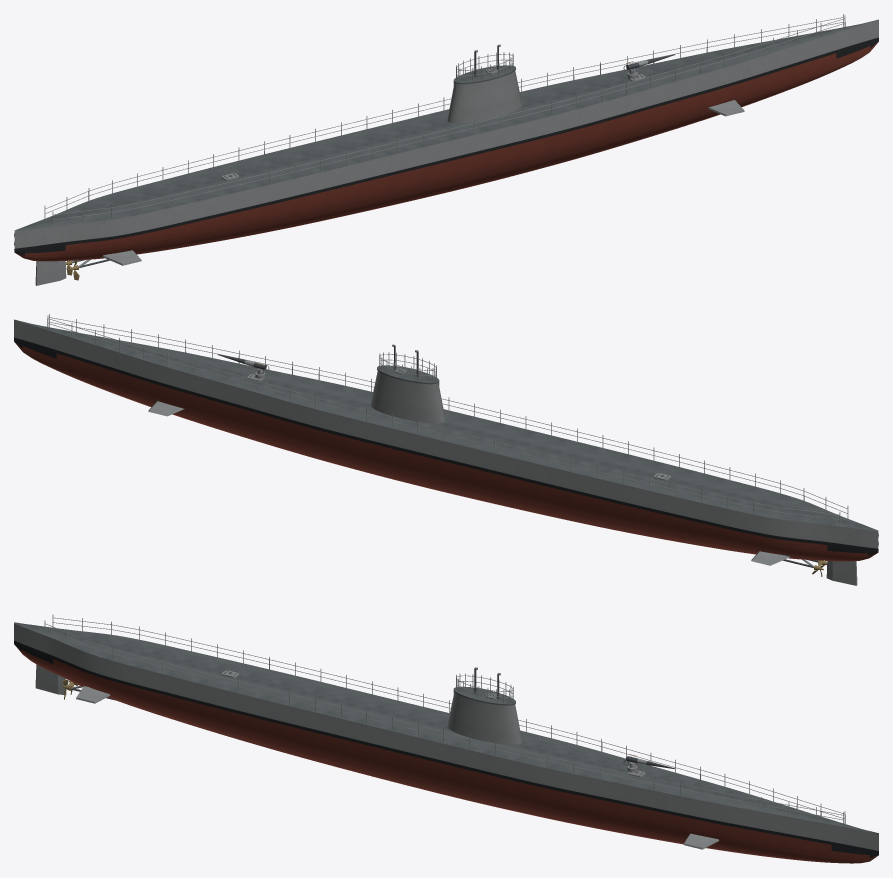
The model's file is bars_1915.glb.
3 renders of one model, top to bottom at view 1: azimuth 30°, elevation 25°; view 2: azimuth 150°, elevation 25°; view 3: azimuth 330°, elevation 25°, orthographic.
Parts seen in each view (by area): view 1: Bars class submarine; view 2: Bars class submarine; view 3: Bars class submarine.
Boxes of the visible parts, x1,y1,x2,y2 form: Bars class submarine: (14,14,878,285); Bars class submarine: (14,314,878,585); Bars class submarine: (14,614,878,863).
Size of the model in its own units: 68 by 9.87 by 6.38.
Materials: 6 (6 with a texture image).
